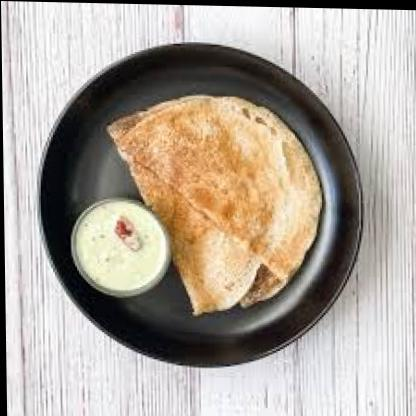dosa: (117, 93, 321, 278), (105, 96, 261, 313), (234, 255, 304, 308)
